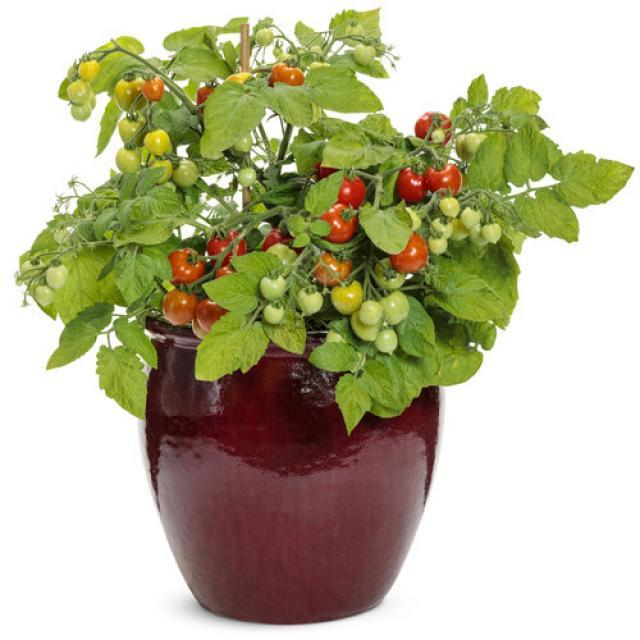tomato: (15, 9, 635, 435)
